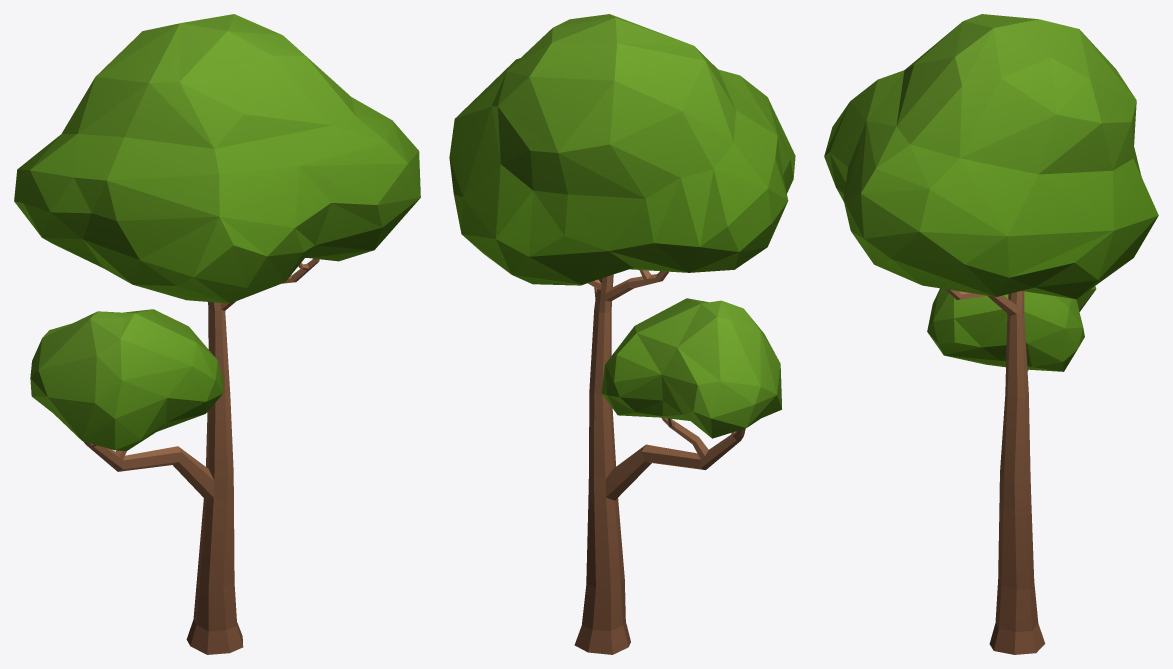
File: Tree_Common_01.fbx
3 views of the same model, side by side, from view 1: azimuth 30°, elevation 25°; view 2: azimuth 150°, elevation 25°; view 3: azimuth 270°, elevation 25° (orthographic).
Parts seen in each view (by area): view 1: Tree_Common_01; view 2: Tree_Common_01; view 3: Tree_Common_01.
Boxes of the visible parts, x1=… form: Tree_Common_01: x1=14, y1=14, x2=420, y2=654; Tree_Common_01: x1=449, y1=14, x2=795, y2=654; Tree_Common_01: x1=824, y1=14, x2=1158, y2=654.
Size of the model in its own units: 373 by 645 by 317.
